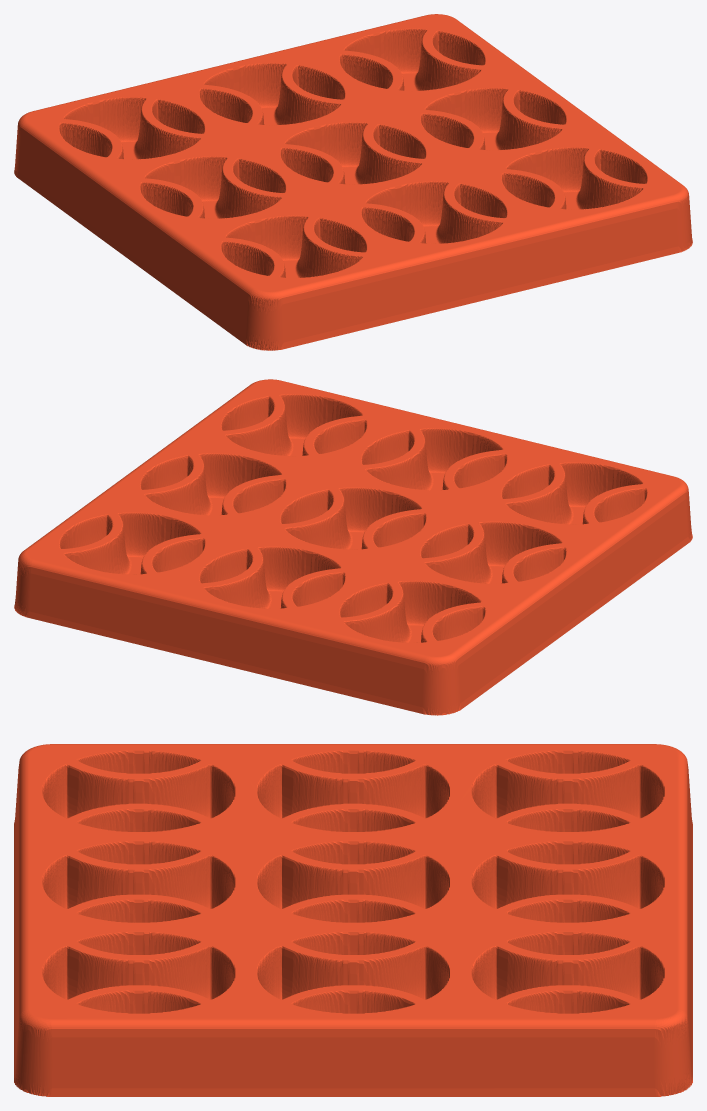
File: mold.glb
The picture shows the model from 3 angles, top to bottom: view 1: azimuth 30°, elevation 25°; view 2: azimuth 150°, elevation 25°; view 3: azimuth 270°, elevation 25°; orthographic projection. The views are drawn at different scales.
Visible parts, largest first — view 1: geometry_0; view 2: geometry_0; view 3: geometry_0.
Boxes of the visible parts, <box> form: geometry_0: <box>14,14,692,350</box>; geometry_0: <box>14,379,692,715</box>; geometry_0: <box>14,744,692,1096</box>.
Size of the model in its own units: 0.1595 by 0.0185 by 0.1595.
